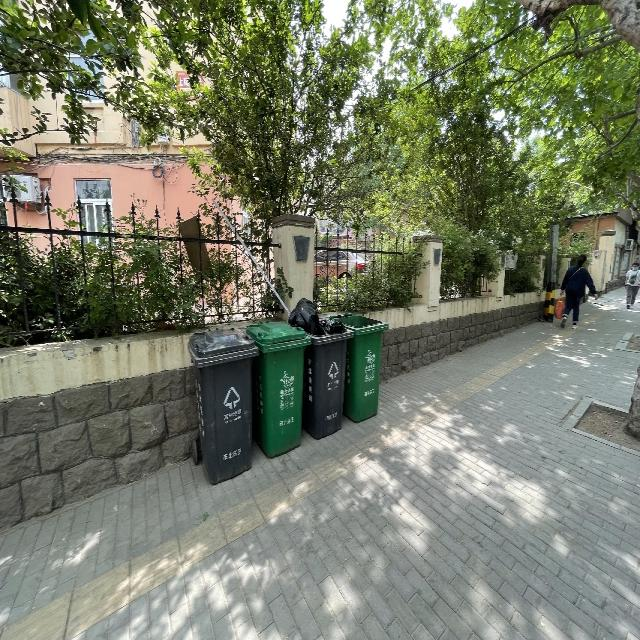garbage_bin: (185, 327, 258, 484), (244, 320, 310, 458), (329, 313, 389, 422)
overflow: (287, 297, 353, 439)
